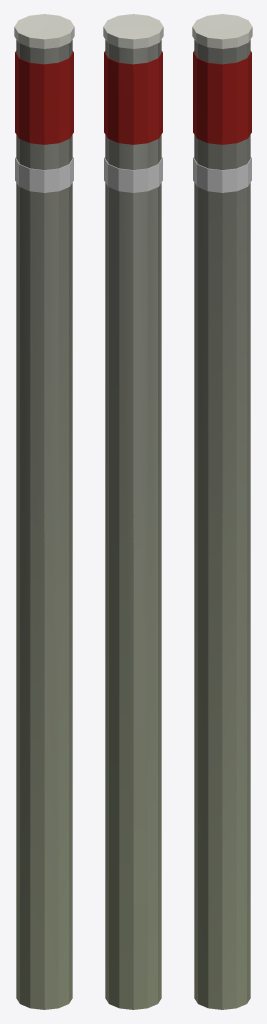
Rendered from boat_launch_marker.glb.
3 renders of one model, left to right at view 1: azimuth 30°, elevation 25°; view 2: azimuth 150°, elevation 25°; view 3: azimuth 330°, elevation 25°, orthographic.
Parts seen in each view (by area): view 1: boat_launch_marker_LOD0; view 2: boat_launch_marker_LOD0; view 3: boat_launch_marker_LOD0.
Part boxes in pixels (box(x1,y1,x2,y2)): boat_launch_marker_LOD0: box(14, 14, 74, 1009); boat_launch_marker_LOD0: box(103, 14, 163, 1009); boat_launch_marker_LOD0: box(192, 14, 252, 1009).
Size of what is drawn, in the model's own units: 0.17 by 3.03 by 0.17.
